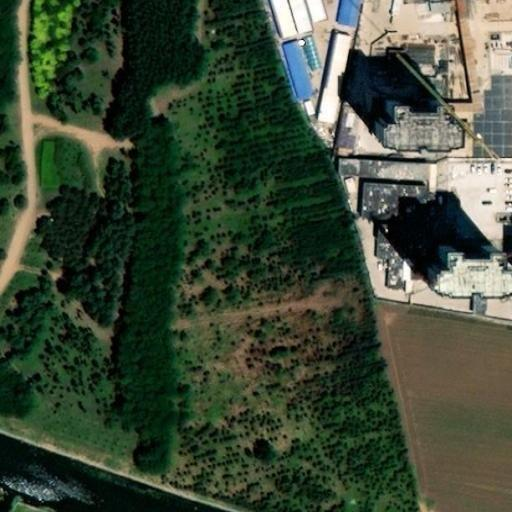building: (368, 102, 453, 157), (407, 253, 494, 302), (314, 28, 351, 122), (356, 175, 430, 220), (277, 36, 310, 102), (332, 102, 359, 151)
